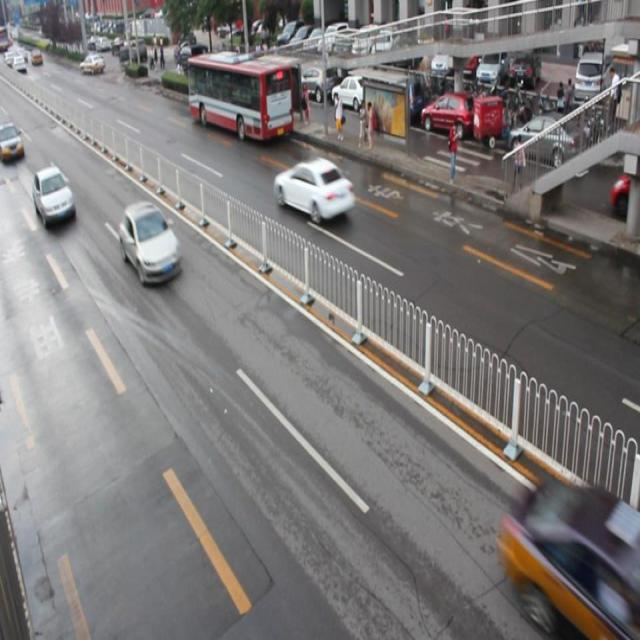car: (498, 474, 640, 640), (273, 156, 353, 222), (119, 201, 183, 283), (33, 166, 75, 223)
van: (188, 54, 291, 140)
